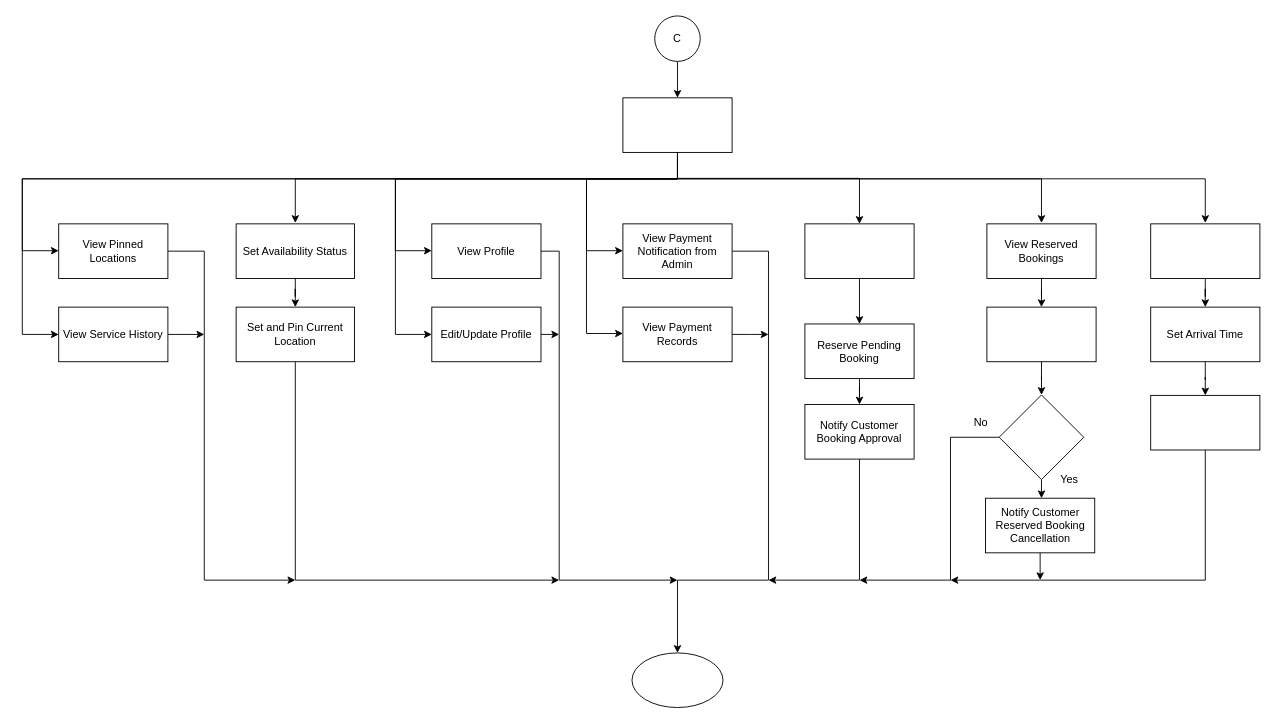
Image size: 1276x723. Some labels were removed from this diagram. Each missing label, with the box of its shape:
Cancel Reserved Booking: (986, 306, 1096, 362)
Driver Dashboard: (622, 97, 732, 152)
END: (631, 652, 723, 708)
Is Allowed to Cancel: (998, 394, 1084, 480)
Set Departure Time: (1150, 223, 1260, 278)
Update Reserved Booking Status: (1150, 394, 1260, 450)
View Pending Bookings: (804, 223, 914, 278)
